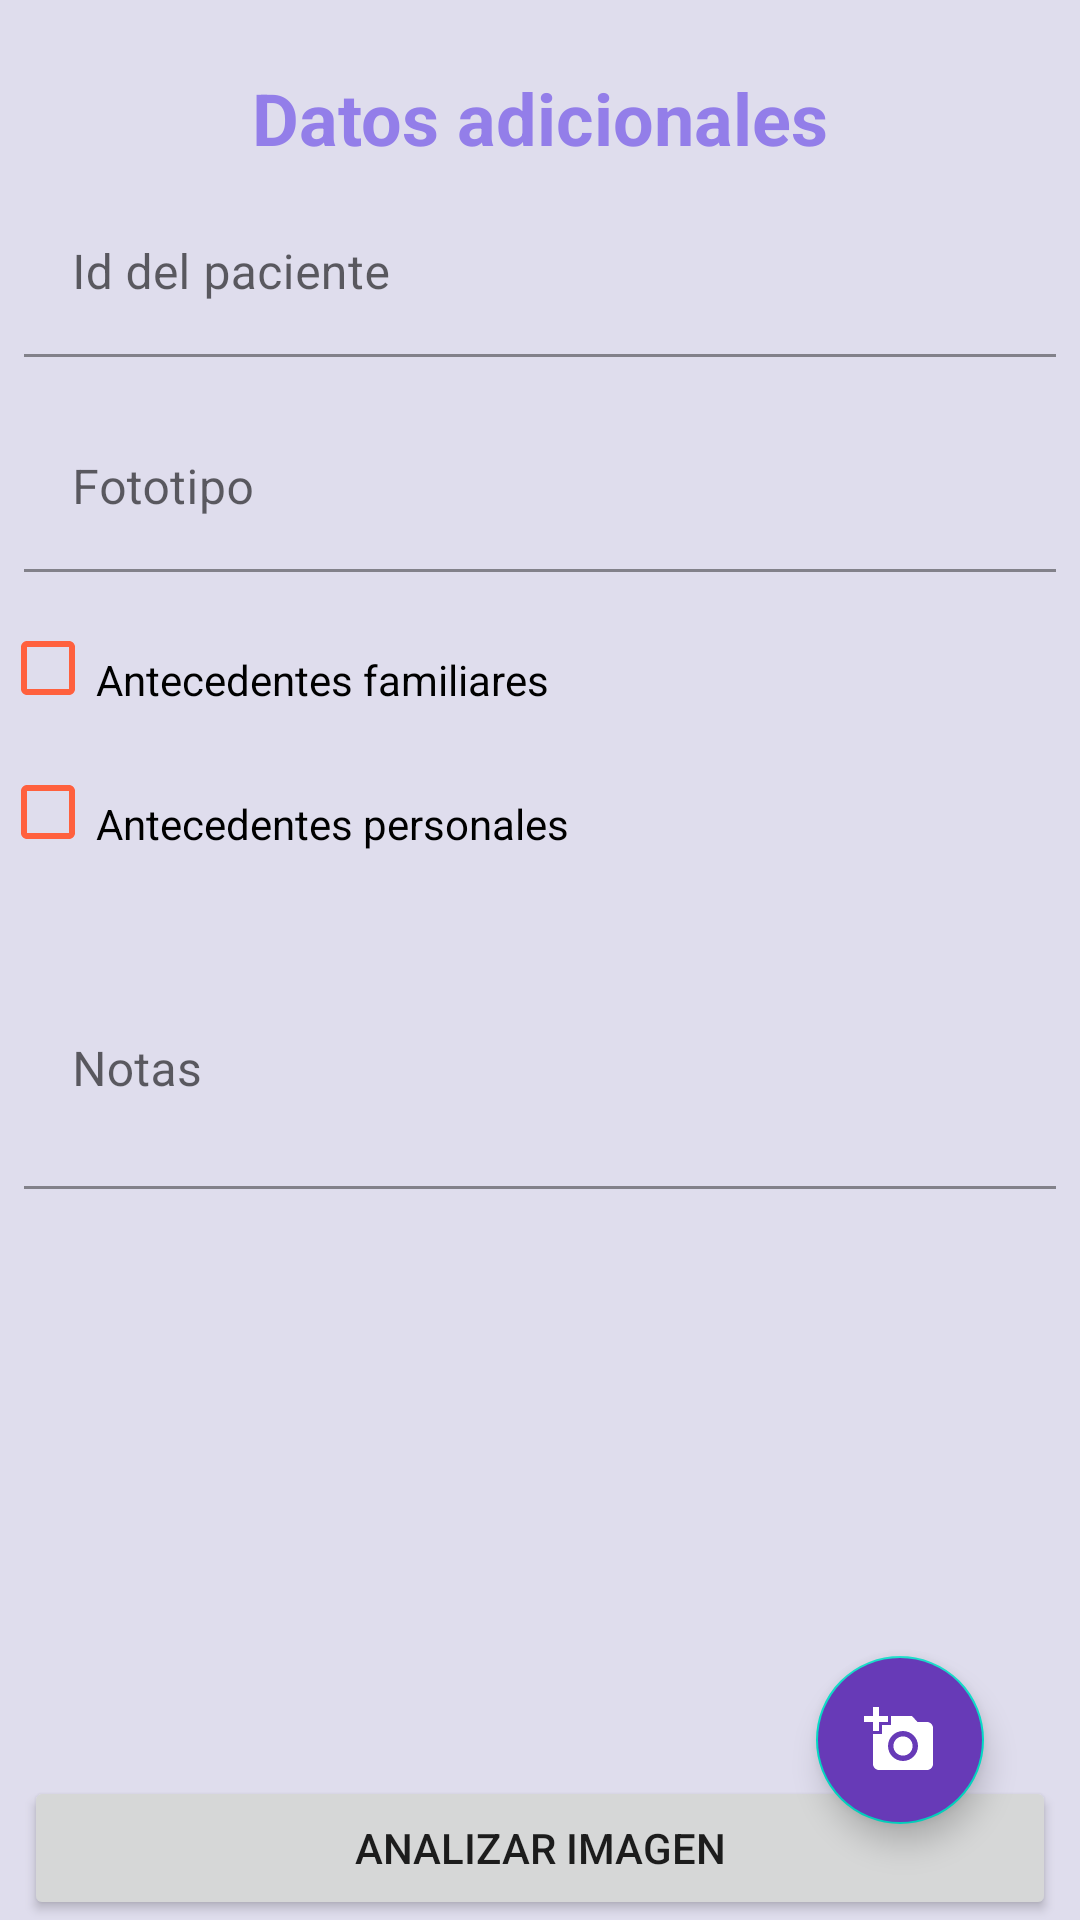

Screen size 1080×1920. Icon name, then its center in pixels as point (x, y):
add photo: point (900, 1740)
